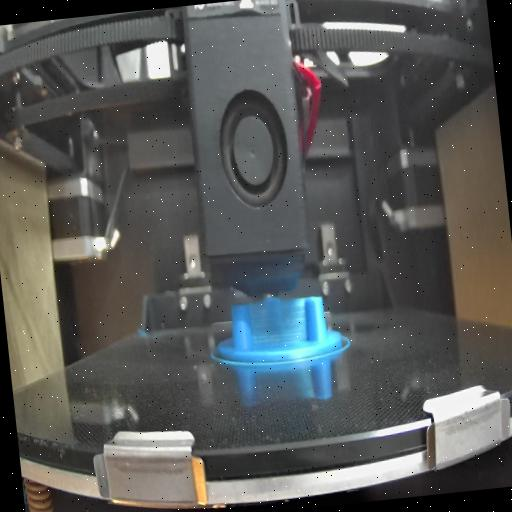stringing: (248, 296, 308, 348)
